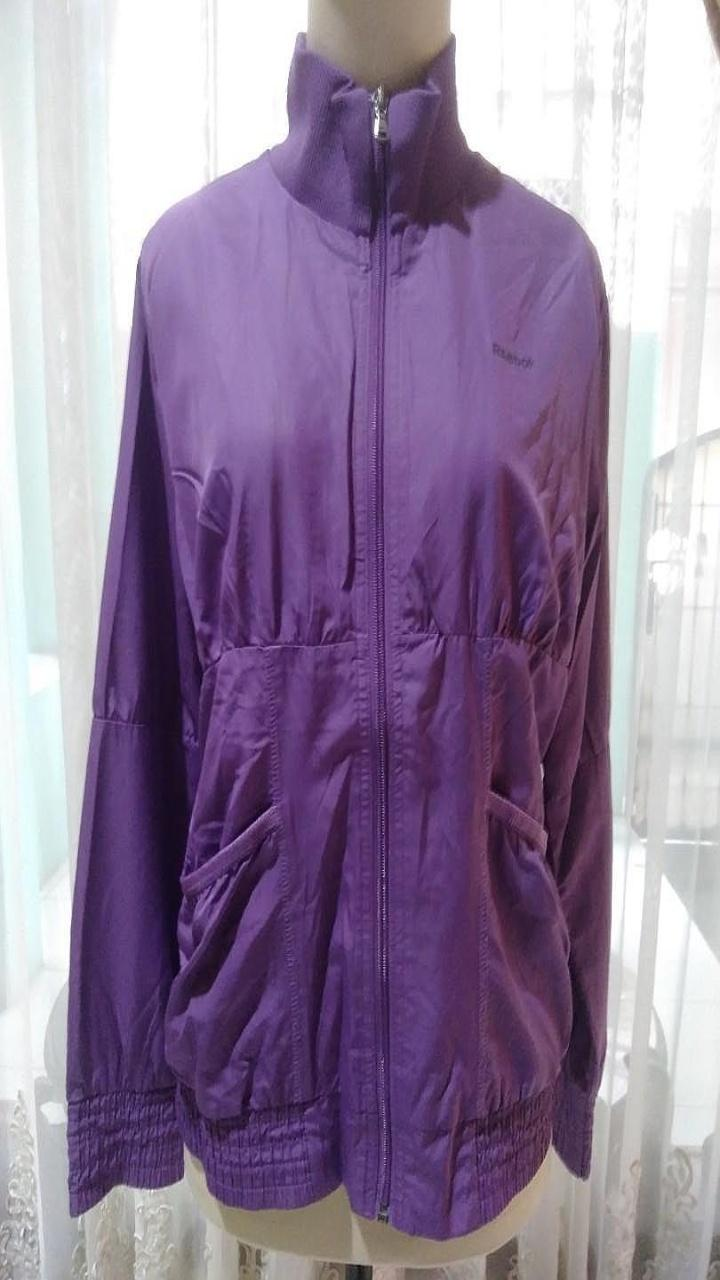Sports_Jacket: (66, 32, 611, 1239)
